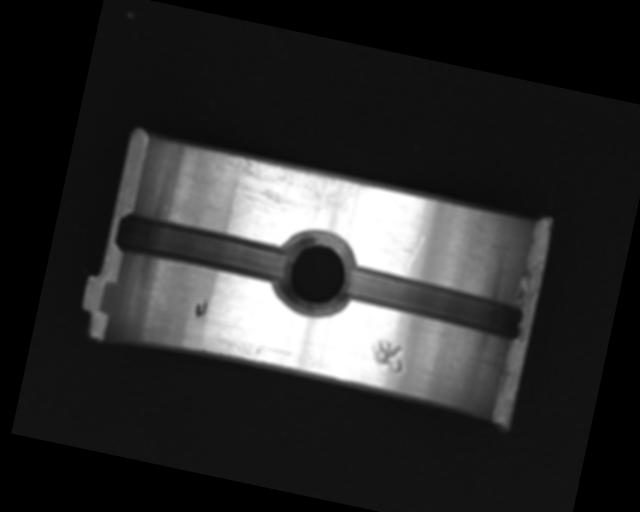blot: (193, 296, 209, 321)
bruise: (366, 336, 408, 376)
gap: (340, 263, 527, 344), (113, 212, 293, 287)
hole: (267, 224, 364, 323)
nick: (402, 233, 425, 278)
scratch: (203, 149, 376, 229)
